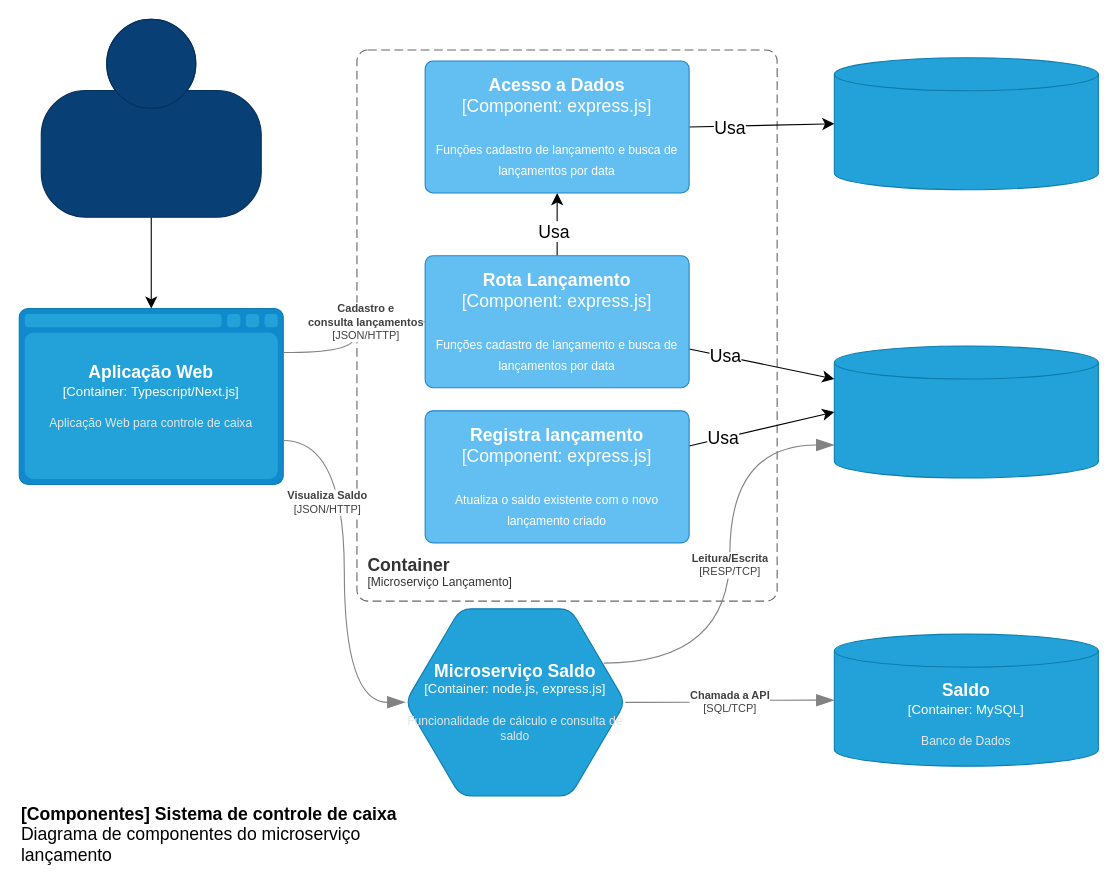
Some shapes in this 1118 by 889 pixel diagram are drawn without their labels. The centre of each missing label's shape, as x and y in pixels:
"Comerciante [Person] Opera o sistema" goes at point 150,117.
"Lançamentos [Container: MySQL] Banco de Dados" goes at point 965,123.
"Pub/Sub, Cache [Container: Redis cache] Fornece dados em memória" goes at point 965,411.
